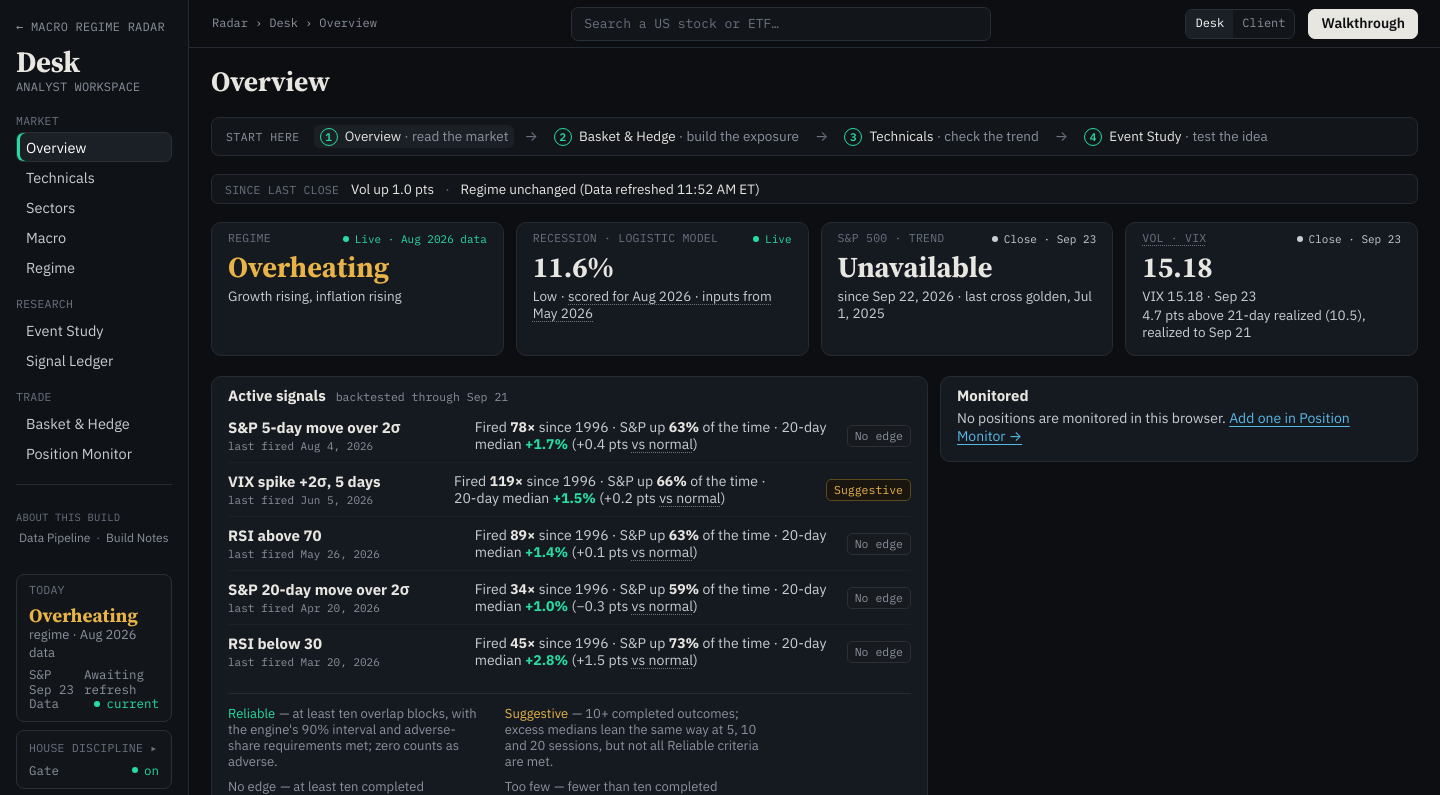
Test case: Desk v2 shell › HOUSE DISCIPLINE opens the gate text; Escape closes it
Click the button with test id "dk-house": (94, 760) [16,730,172,789]
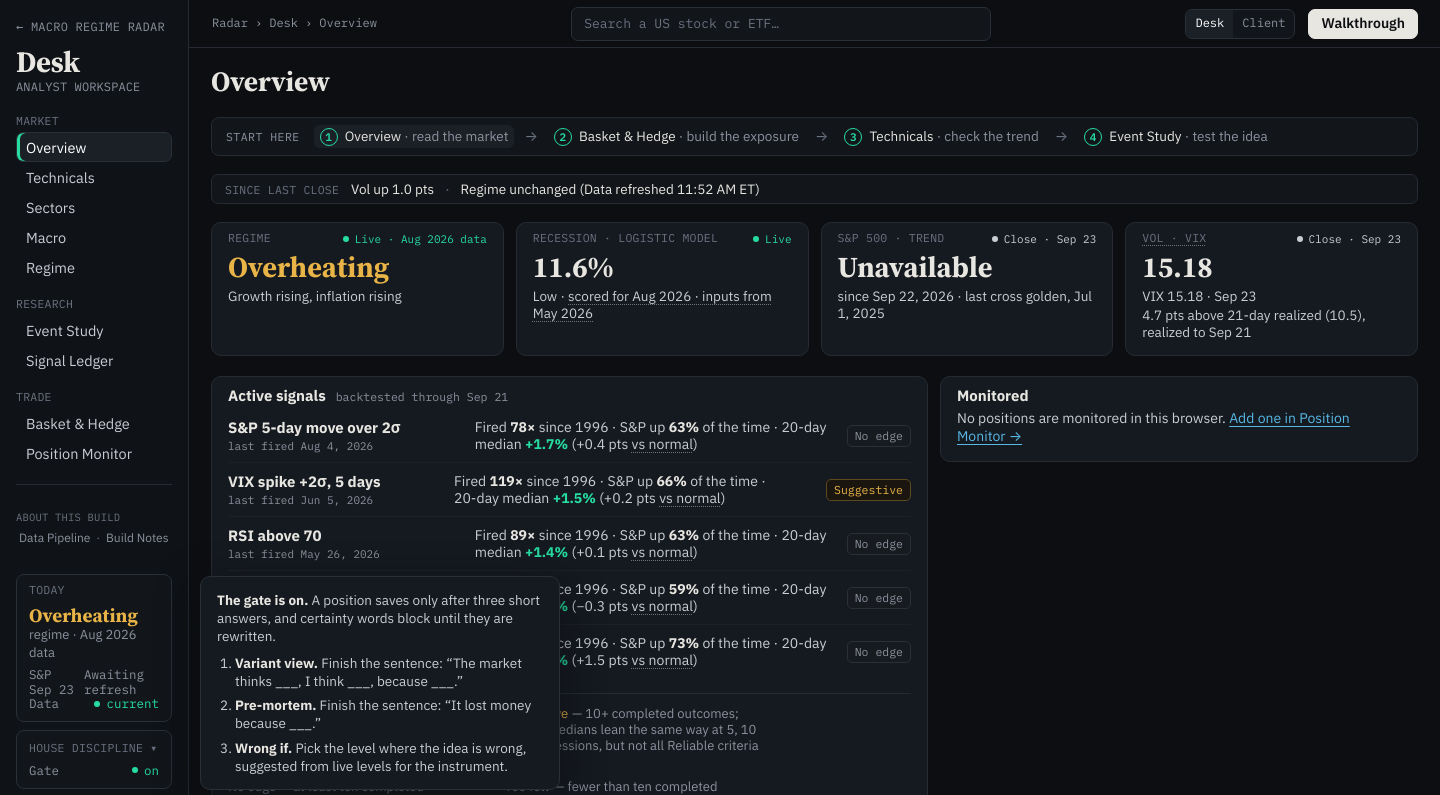
Press Escape
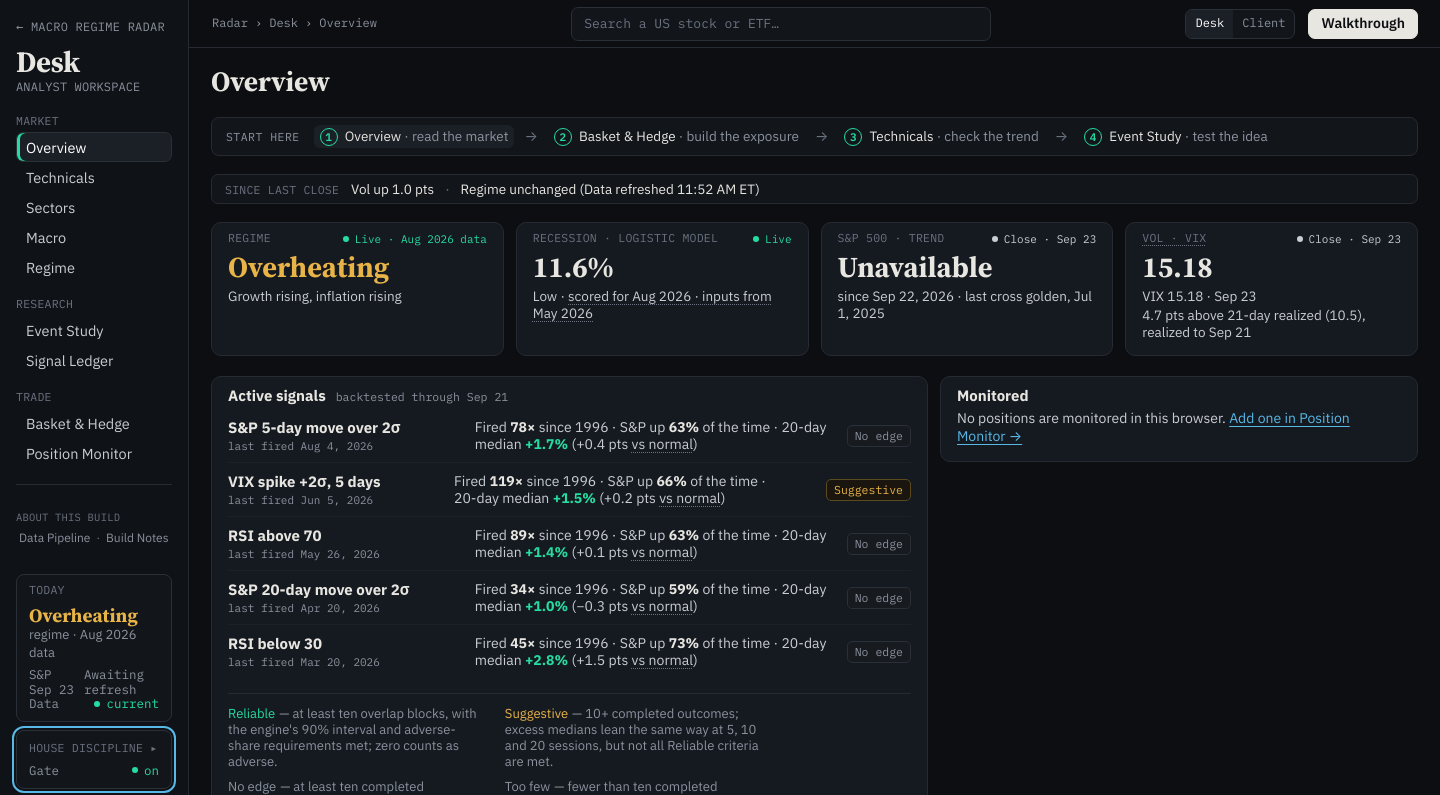
Result: the dialog is gone
